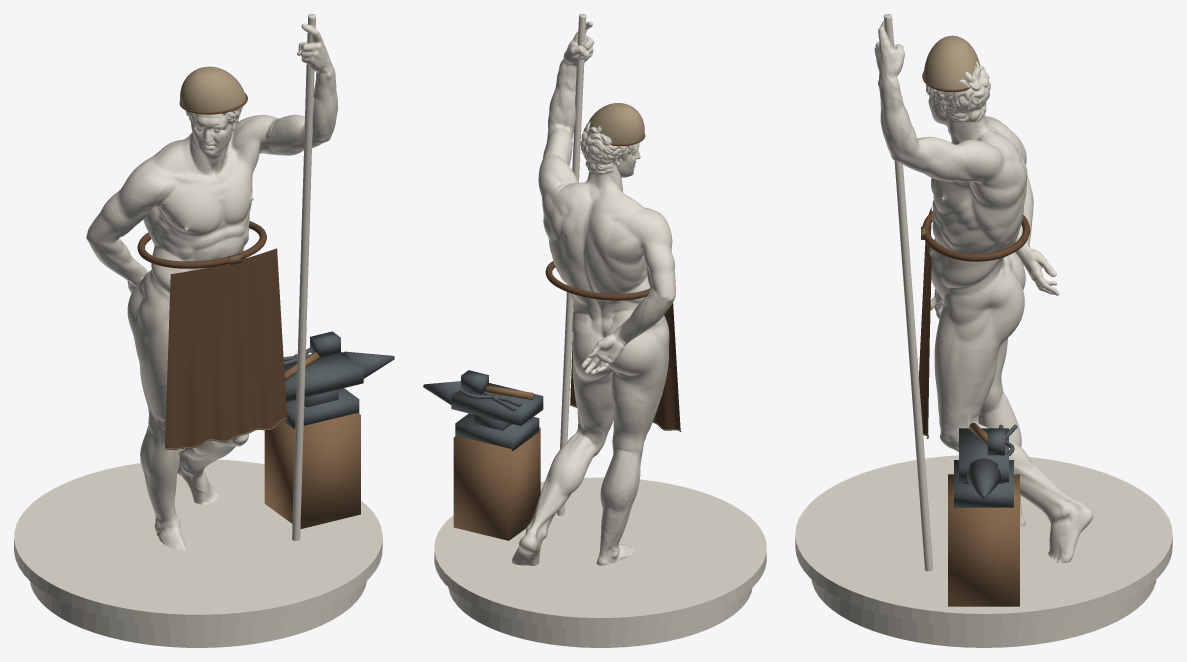
The model's file is hefesto.glb.
The picture shows the model from 3 angles, left to right: view 1: azimuth 30°, elevation 25°; view 2: azimuth 150°, elevation 25°; view 3: azimuth 270°, elevation 25°; orthographic projection. The views are drawn at different scales.
Visible parts, largest first — view 1: Moldura del plinto, Figura masculina helenística · base KAS823, Delantal flexible con pliegues, Tocón de apoyo, Plinto principal, Pilos bajo de fieltro, Mesa del yunque, Base del yunque, Cinturón ajustado, Cuerno del yunque, Cabeza forjada del martillo; view 2: Figura masculina helenística · base KAS823, Moldura del plinto, Tocón de apoyo, Plinto principal, Mesa del yunque, Delantal flexible con pliegues, Pilos bajo de fieltro, Base del yunque, Cinturón ajustado, Cabeza forjada del martillo, Cuerno del yunque; view 3: Figura masculina helenística · base KAS823, Moldura del plinto, Tocón de apoyo, Plinto principal, Pilos bajo de fieltro, Delantal flexible con pliegues, Base del yunque, Mesa del yunque, Cinturón ajustado, Cuerno del yunque.
Part boxes in pixels (box(x1,y1,x2,y2)): Moldura del plinto: box(14, 459, 382, 627); Figura masculina helenística · base KAS823: box(86, 14, 337, 551); Delantal flexible con pliegues: box(165, 248, 286, 448); Tocón de apoyo: box(264, 413, 360, 529); Plinto principal: box(30, 581, 366, 647); Pilos bajo de fieltro: box(180, 66, 245, 114); Mesa del yunque: box(284, 352, 363, 401); Base del yunque: box(283, 388, 359, 429); Cinturón ajustado: box(137, 221, 266, 268); Cuerno del yunque: box(341, 351, 394, 378); Cabeza forjada del martillo: box(310, 331, 340, 357); Figura masculina helenística · base KAS823: box(512, 14, 675, 565); Moldura del plinto: box(434, 477, 766, 629); Tocón de apoyo: box(453, 427, 540, 540); Plinto principal: box(448, 587, 752, 647); Mesa del yunque: box(451, 383, 543, 425); Delantal flexible con pliegues: box(570, 303, 680, 430); Pilos bajo de fieltro: box(585, 103, 644, 146); Base del yunque: box(455, 413, 539, 451); Cinturón ajustado: box(545, 261, 649, 300); Cabeza forjada del martillo: box(461, 370, 488, 394); Cuerno del yunque: box(423, 381, 460, 404); Figura masculina helenística · base KAS823: box(874, 14, 1093, 571); Moldura del plinto: box(795, 455, 1172, 626); Tocón de apoyo: box(948, 474, 1019, 606); Plinto principal: box(811, 580, 1156, 647); Pilos bajo de fieltro: box(923, 35, 979, 92); Delantal flexible con pliegues: box(919, 207, 931, 437); Base del yunque: box(954, 460, 1013, 507); Mesa del yunque: box(959, 428, 1008, 482); Cinturón ajustado: box(922, 211, 1030, 261); Cuerno del yunque: box(967, 458, 1000, 498).
Size of the model in its own units: 1.34 by 2.08 by 1.2.
